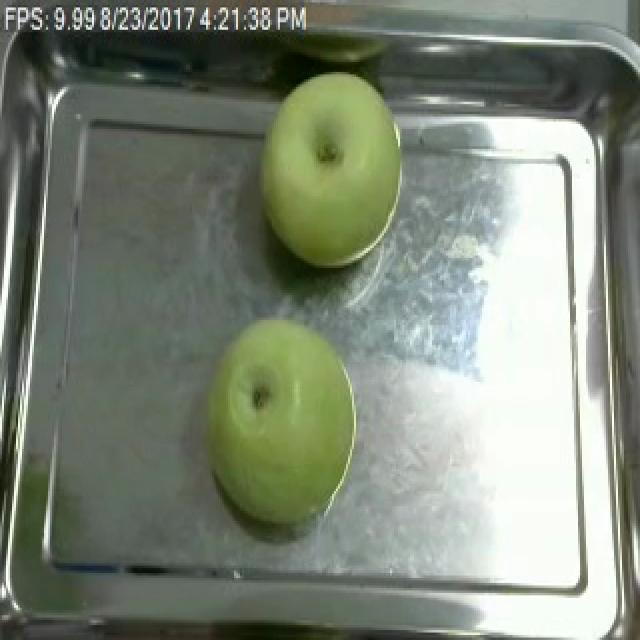50-_ripeness: (237, 32, 409, 279), (190, 312, 378, 535)
